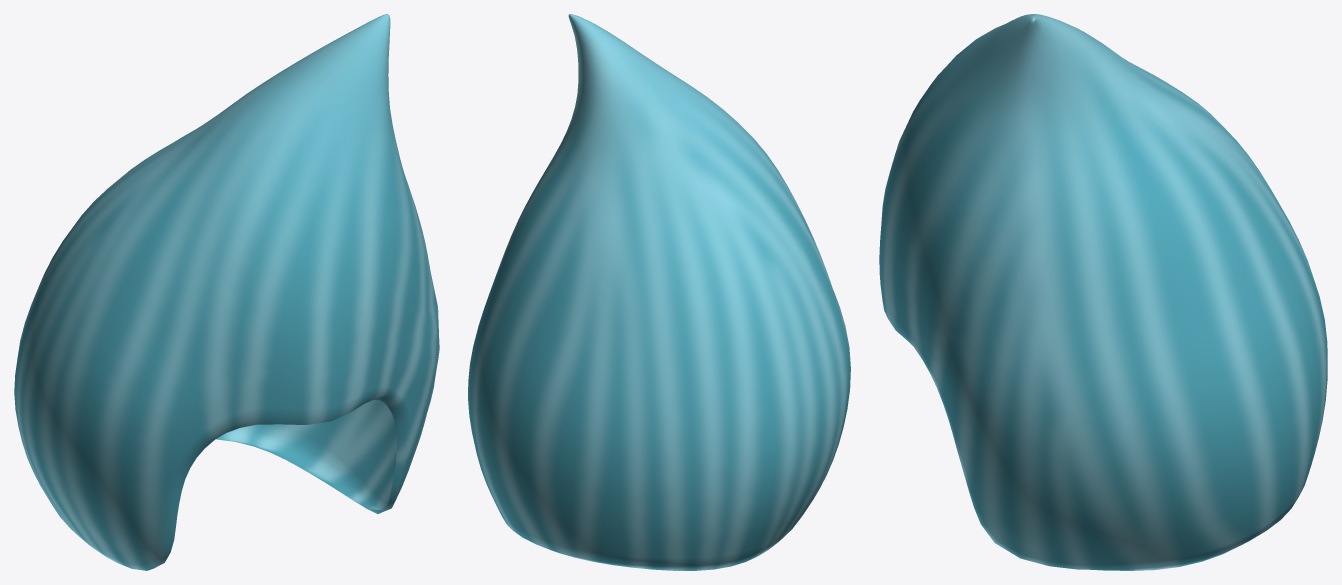
Rendered from flame-hairs.fbx.
3 renders of one model, left to right at view 1: azimuth 30°, elevation 25°; view 2: azimuth 150°, elevation 25°; view 3: azimuth 270°, elevation 25°, orthographic. The views are drawn at different scales.
Parts seen in each view (by area): view 1: Flame_Hairs_only:Mesh; view 2: Flame_Hairs_only:Mesh; view 3: Flame_Hairs_only:Mesh.
Part boxes in pixels (bbox=[...]): Flame_Hairs_only:Mesh: bbox=[14, 14, 439, 570]; Flame_Hairs_only:Mesh: bbox=[468, 14, 850, 570]; Flame_Hairs_only:Mesh: bbox=[879, 14, 1327, 570].
Size of the model in its own units: 1.74 by 2.25 by 1.64.
1 material, 1 textured.
